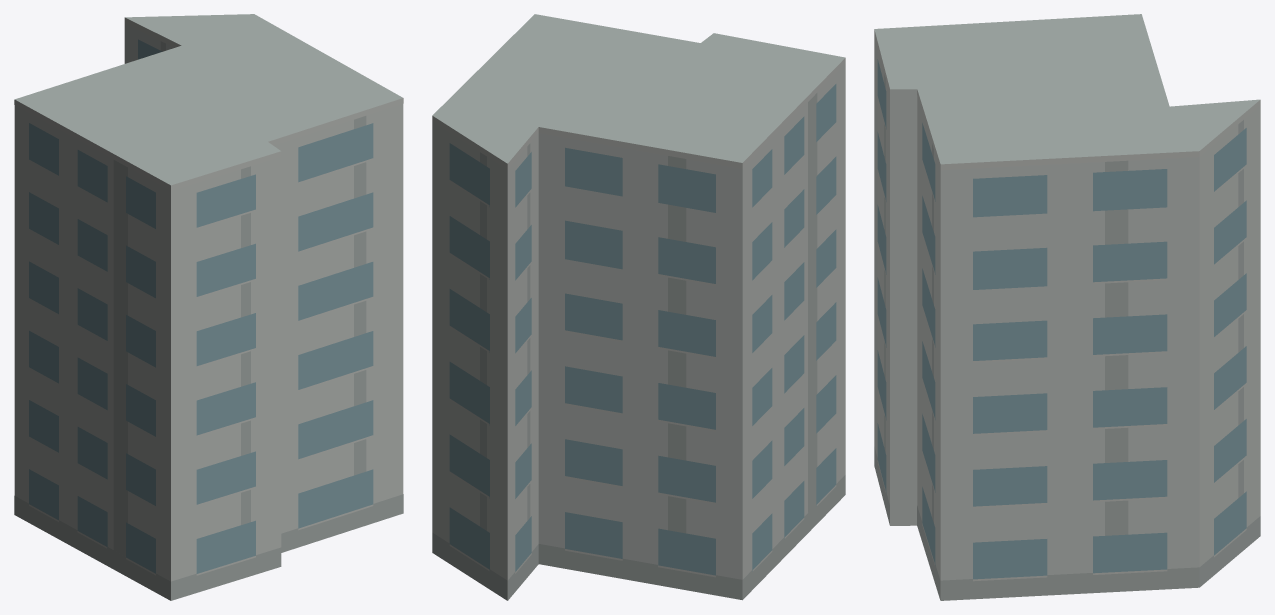
Rendered from survey-upis-32605030.glb.
3 renders of one model, left to right at view 1: azimuth 30°, elevation 25°; view 2: azimuth 150°, elevation 25°; view 3: azimuth 270°, elevation 25°, orthographic. The views are drawn at different scales.
Visible parts, largest first — view 1: survey-upis-32605030.tmp; view 2: survey-upis-32605030.tmp; view 3: survey-upis-32605030.tmp.
Boxes of the visible parts, x1,y1,x2,y2 form: survey-upis-32605030.tmp: (14,14,403,600); survey-upis-32605030.tmp: (432,14,845,600); survey-upis-32605030.tmp: (874,14,1260,600).
Size of the model in its own units: 13.15 by 17.8 by 14.28.
